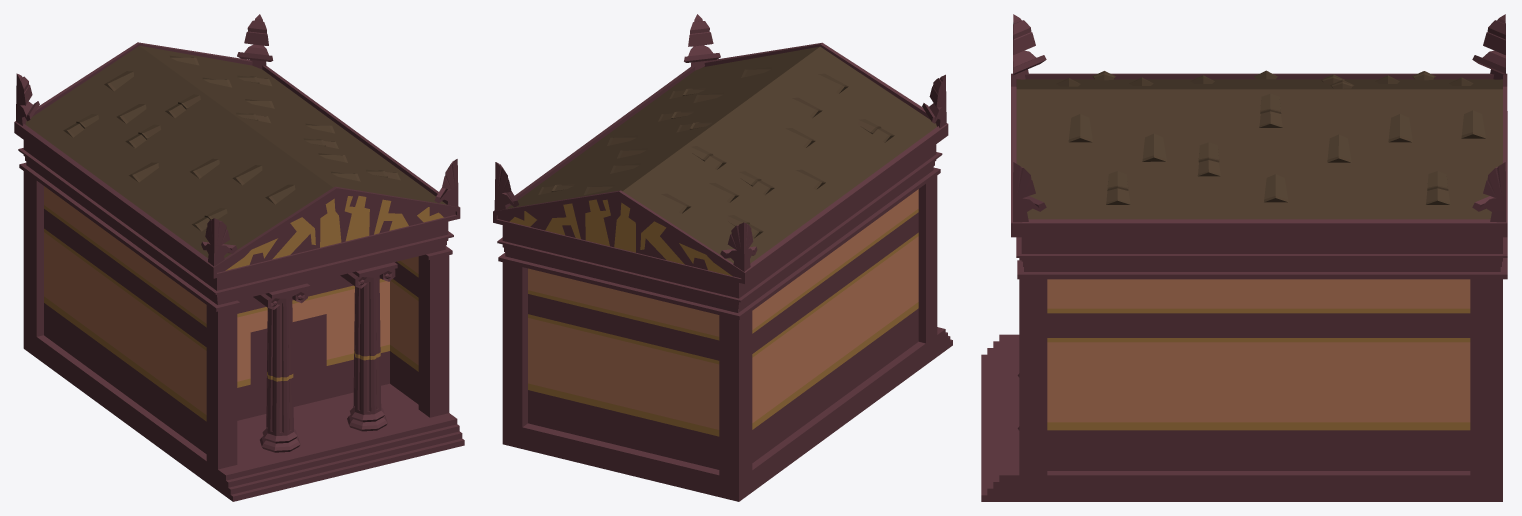
The model's file is SM_Temple_Antis_Empire.fbx.
3 renders of one model, left to right at view 1: azimuth 30°, elevation 25°; view 2: azimuth 150°, elevation 25°; view 3: azimuth 270°, elevation 25°, orthographic. The views are drawn at different scales.
Visible parts, largest first — view 1: SM_Ancient_Temple_Antis_Empire; view 2: SM_Ancient_Temple_Antis_Empire; view 3: SM_Ancient_Temple_Antis_Empire.
Boxes of the visible parts, x1,y1,x2,y2 form: SM_Ancient_Temple_Antis_Empire: (14, 14, 464, 501); SM_Ancient_Temple_Antis_Empire: (493, 14, 952, 501); SM_Ancient_Temple_Antis_Empire: (981, 14, 1507, 501).
Bounding box in the file's own units: 12.68 × 13.61 × 18.81.
